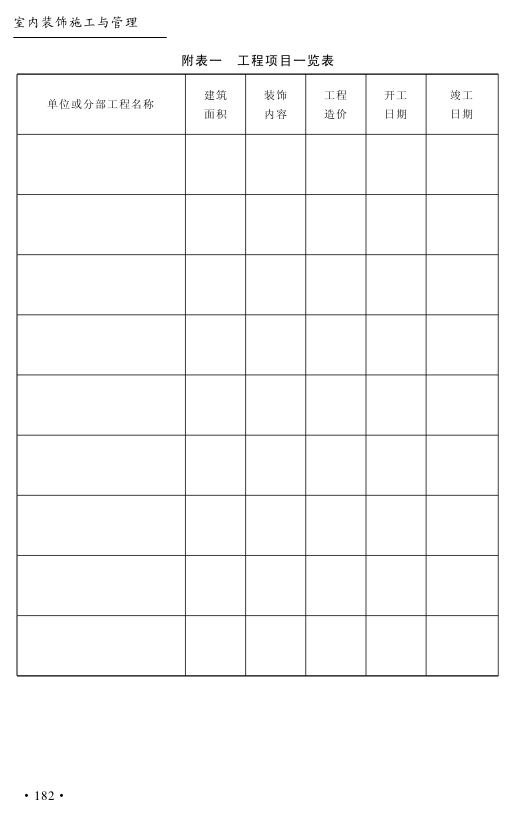table: (17, 72, 499, 676)
